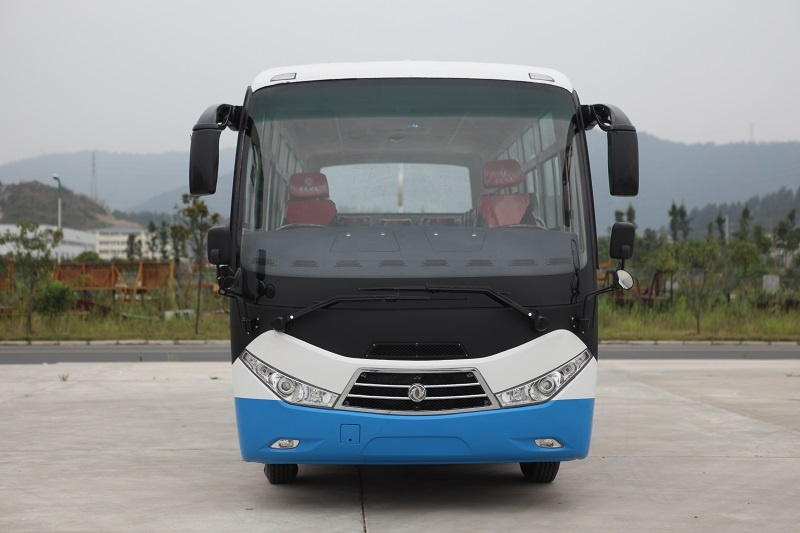bus: (195, 61, 624, 502)
